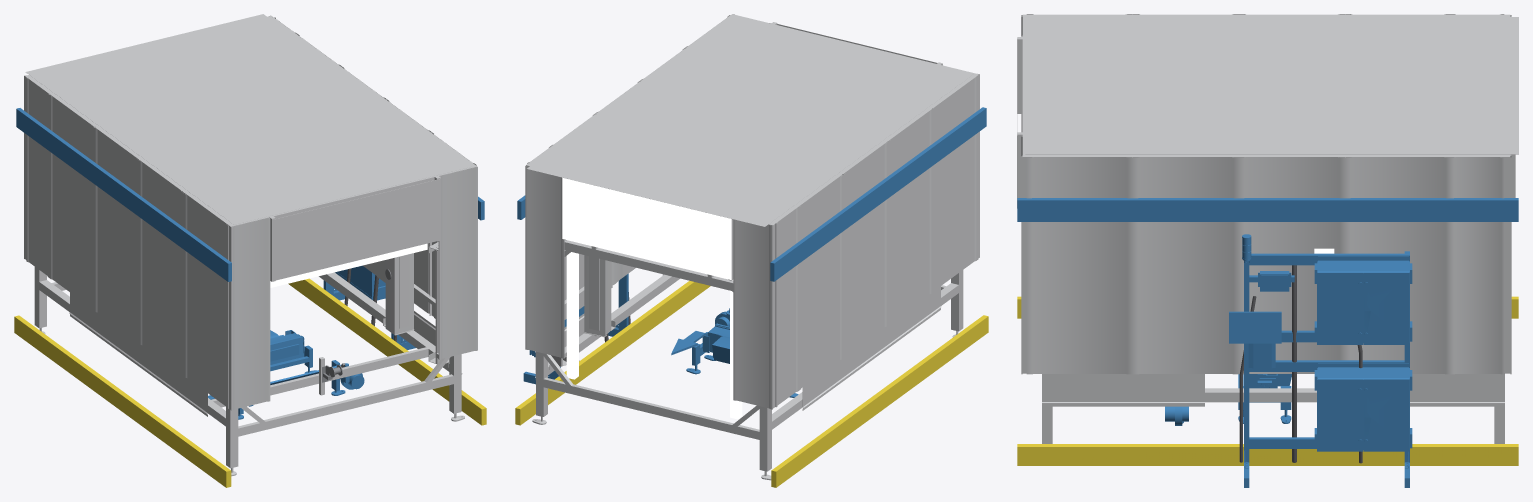
File: camera_tunnel.glb
The picture shows the model from 3 angles, left to right: view 1: azimuth 30°, elevation 25°; view 2: azimuth 150°, elevation 25°; view 3: azimuth 270°, elevation 25°; orthographic projection. The views are drawn at different scales.
Parts seen in each view (by area): view 1: Tunnel_Body, Lights; view 2: Tunnel_Body, Lights; view 3: Tunnel_Body.
Part boxes in pixels (bbox=[...]): Tunnel_Body: bbox=[14, 14, 486, 487]; Lights: bbox=[270, 243, 427, 287]; Tunnel_Body: bbox=[515, 14, 988, 487]; Lights: bbox=[562, 177, 742, 419]; Tunnel_Body: bbox=[1017, 14, 1518, 487].
Size of the model in its own units: 3.26 by 2.54 by 3.78.
